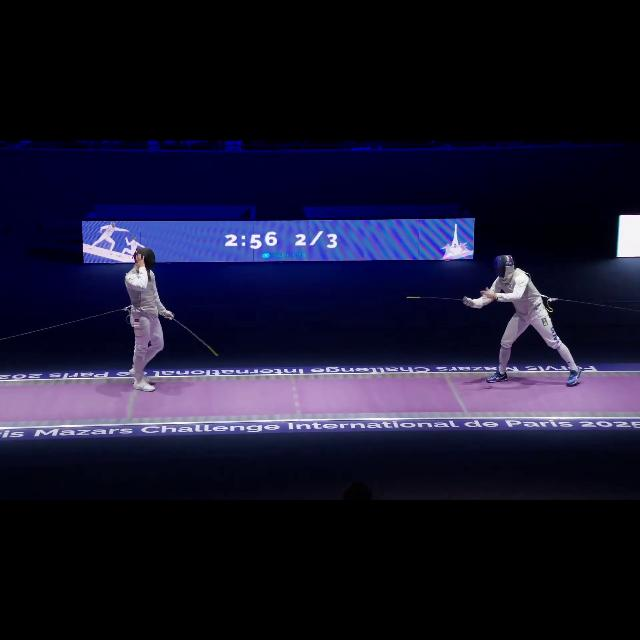blade: (166, 310, 222, 358), (404, 290, 474, 308)
